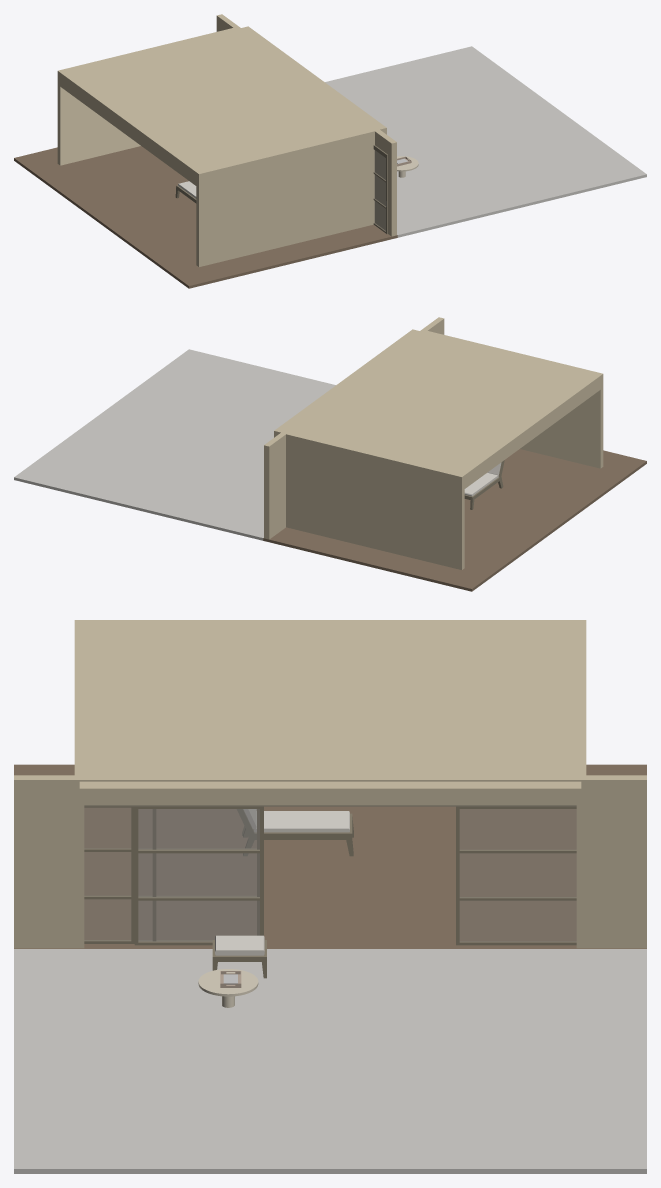
Rendered from villa_H.fbx.
3 renders of one model, top to bottom at view 1: azimuth 30°, elevation 25°; view 2: azimuth 150°, elevation 25°; view 3: azimuth 270°, elevation 25°, orthographic. The views are drawn at different scales.
Parts seen in each view (by area): view 1: villa_H_room, villa_H_floor_tiles, villa_H_floor_wood, villa_H_wall_B, villa_H_door_rail_big, villa_H_glass_panes; view 2: villa_H_room, villa_H_floor_tiles, villa_H_floor_wood, villa_H_wall_A, villa_H_door_rail_big; view 3: villa_H_floor_tiles, villa_H_room, villa_H_floor_wood, villa_H_glass_panes (×4), villa_H_door_rail_big, villa_H_wall_B, villa_H_wall_A, villa_H_doors, villa_H_doors3, villa_H_sun_pillow_big, villa_H_doors1, villa_H_doors2 (+4 smaller).
Part boxes in pixels (left/top/right/bottom): villa_H_room: left=57, top=26, right=379, bottom=266; villa_H_floor_tiles: left=325, top=46, right=646, bottom=237; villa_H_floor_wood: left=14, top=146, right=397, bottom=288; villa_H_wall_B: left=375, top=130, right=396, bottom=236; villa_H_door_rail_big: left=241, top=26, right=386, bottom=134; villa_H_glass_panes: left=374, top=150, right=385, bottom=230; villa_H_room: left=281, top=329, right=603, bottom=569; villa_H_floor_tiles: left=14, top=349, right=335, bottom=540; villa_H_floor_wood: left=263, top=449, right=646, bottom=591; villa_H_wall_A: left=264, top=433, right=285, bottom=539; villa_H_door_rail_big: left=274, top=329, right=419, bottom=437; villa_H_floor_tiles: left=14, top=949, right=646, bottom=1173; villa_H_room: left=74, top=620, right=586, bottom=948; villa_H_floor_wood: left=14, top=764, right=646, bottom=948; villa_H_glass_panes (×4): left=84, top=808, right=576, bottom=941; villa_H_door_rail_big: left=79, top=781, right=581, bottom=804; villa_H_wall_B: left=14, top=775, right=74, bottom=948; villa_H_wall_A: left=586, top=775, right=646, bottom=948; villa_H_doors: left=134, top=806, right=263, bottom=945; villa_H_doors3: left=456, top=806, right=576, bottom=945; villa_H_sun_pillow_big: left=254, top=811, right=349, bottom=832; villa_H_doors1: left=131, top=806, right=259, bottom=942; villa_H_doors2: left=84, top=806, right=156, bottom=943.
Size of the model in its own units: 1581 by 329 by 1046.
